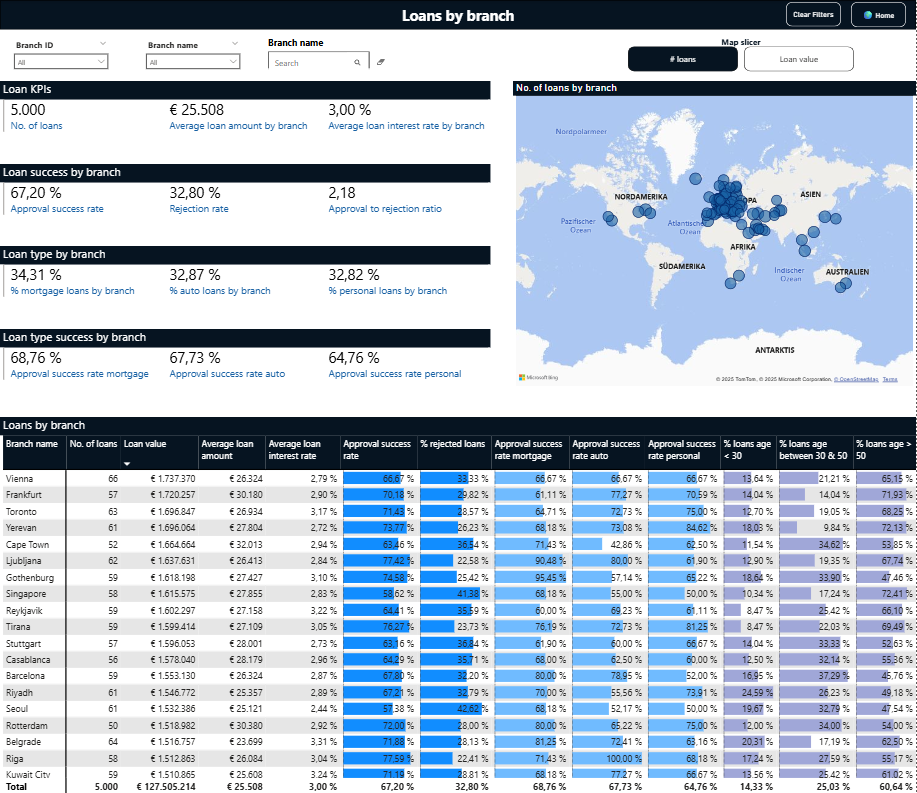

The dashboard page shown, as its layout file describes it:
{"tool":"powerbi","page":{"name":"Loans by branch ","canvas":[1500,1300],"ordinal":2},"visuals":[{"type":"map","title":"No. of loans by branch ","fields":{"Category":["reporting__high_lvl_branch_loan_kpis.branch_name"],"Size":["Sum(reporting__high_lvl_branch_loan_kpis.count_of_loans)"]},"box":[840,133.3,660,505],"z":0},{"type":"shape","title":"Transactions","box":[0,0,1500,48.3],"z":1000},{"type":"actionButton","title":"Clear Filters Invoices","box":[1286.8,4,90,40],"z":2000},{"type":"actionButton","title":"Home_Button","box":[1393,3.3,90,41.2],"z":3000},{"type":"multiRowCard","title":"Loan KPIs","fields":{"Values":["Sum(reporting__high_lvl_branch_loan_kpis.count_of_loans)","Avg(reporting__high_lvl_branch_loan_kpis.avg_loan_amount)","Avg(reporting__high_lvl_branch_loan_kpis.avg_interest_rate)"]},"box":[0,132.5,802.5,100],"z":4000},{"type":"slicer","title":"Traffic_Industry_Filter","fields":{"Values":["reporting__high_lvl_branch_loan_kpis.branch_name"]},"box":[229.4,59,173.8,57.5],"z":6000},{"type":"slicer","title":"Traffic_Industry_Filter","fields":{"Values":["reporting__high_lvl_branch_loan_kpis.branch_id"]},"box":[12.5,59,173.8,57.5],"z":7000},{"type":"pivotTable","title":"Loans by branch","fields":{"Rows":["reporting__high_lvl_branch_loan_kpis.branch_name"],"Values":["Sum(reporting__high_lvl_branch_loan_kpis.count_of_loans)","Sum(reporting__high_lvl_branch_loan_kpis.total_loan_amount)","Avg(reporting__high_lvl_branch_loan_kpis.avg_loan_amount)","Avg(reporting__high_lvl_branch_loan_kpis.avg_interest_rate)","Avg(reporting__high_lvl_branch_loan_kpis.approval_success_rate)","Avg(reporting__high_lvl_branch_loan_kpis.rejection_rate)","Avg(reporting__high_lvl_branch_loan_kpis.approval_success_rate_mortgage)","Avg(reporting__high_lvl_branch_loan_kpis.approval_success_rate_auto)","Avg(reporting__high_lvl_branch_loan_kpis.approval_success_rate_personal)","Avg(reporting__high_lvl_branch_loan_kpis.loans_under_30_rate)","Avg(reporting__high_lvl_branch_loan_kpis.loans_30_to_50_rate)","Avg(reporting__high_lvl_branch_loan_kpis.loans_over_50_rate)"]},"box":[0,683.3,1548.3,621.7],"z":9000},{"type":"bookmarkNavigator","box":[1028.3,58.3,370,58.3],"z":10000},{"type":"multiRowCard","title":"Loan success by branch","fields":{"Values":["Avg(reporting__high_lvl_branch_loan_kpis.approval_success_rate)","Avg(reporting__high_lvl_branch_loan_kpis.rejection_rate)","Avg(reporting__high_lvl_branch_loan_kpis.approval_to_rejection_ratio)"]},"box":[0,267.8,803.3,100],"z":11000},{"type":"multiRowCard","title":"Loan type by branch","fields":{"Values":["Avg(reporting__high_lvl_branch_loan_kpis.loans_mortgage_rate)","Avg(reporting__high_lvl_branch_loan_kpis.loans_auto_rate)","Avg(reporting__high_lvl_branch_loan_kpis.loans_personal_rate)"]},"box":[0,403.1,803.3,100],"z":12000},{"type":"multiRowCard","title":"Loan type success  by branch","fields":{"Values":["Avg(reporting__high_lvl_branch_loan_kpis.approval_success_rate_mortgage)","Avg(reporting__high_lvl_branch_loan_kpis.approval_success_rate_auto)","Avg(reporting__high_lvl_branch_loan_kpis.approval_success_rate_personal)"]},"box":[0,538.3,803.3,100],"z":13000},{"type":"textFilter25A4896A83E0487089E2B90C9AE57C8A","title":"Branch name","fields":{"field":["reporting__high_lvl_customer_kpis.branch_name"]},"box":[433.3,59,213.3,58.3],"z":14000}]}

Visuals, with their boxes in screenshot pixels (x1, y1, x2, y2), scaled from the page's 1500x1300 canvas onto the 917x793 screenshot:
"No. of loans by branch " map: x1=514, y1=81, x2=916, y2=389
"Transactions" shape: x1=0, y1=0, x2=916, y2=29
"Clear Filters Invoices" actionButton: x1=787, y1=2, x2=842, y2=27
"Home_Button" actionButton: x1=852, y1=2, x2=907, y2=27
"Loan KPIs" multiRowCard: x1=0, y1=81, x2=491, y2=142
"Traffic_Industry_Filter" slicer: x1=140, y1=36, x2=246, y2=71
"Traffic_Industry_Filter" slicer: x1=8, y1=36, x2=114, y2=71
"Loans by branch" pivotTable: x1=0, y1=417, x2=916, y2=792
bookmarkNavigator: x1=629, y1=36, x2=855, y2=71
"Loan success by branch" multiRowCard: x1=0, y1=163, x2=491, y2=224
"Loan type by branch" multiRowCard: x1=0, y1=246, x2=491, y2=307
"Loan type success  by branch" multiRowCard: x1=0, y1=328, x2=491, y2=389
"Branch name" textFilter25A4896A83E0487089E2B90C9AE57C8A: x1=265, y1=36, x2=395, y2=72
